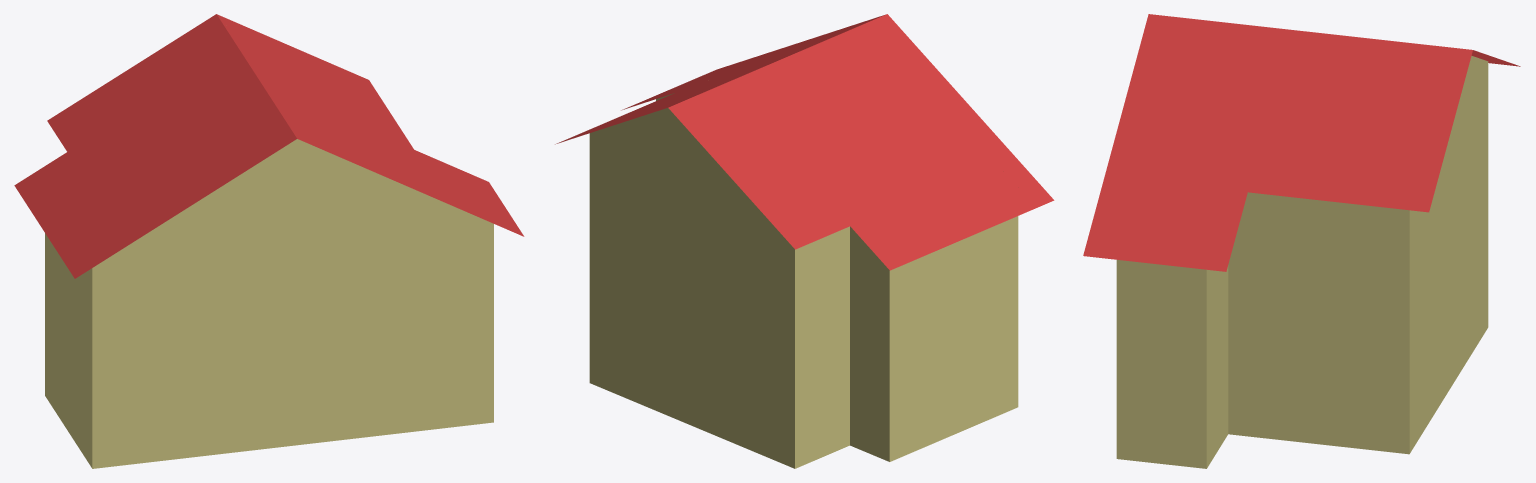
The picture shows the model from 3 angles, left to right: view 1: azimuth 30°, elevation 25°; view 2: azimuth 150°, elevation 25°; view 3: azimuth 270°, elevation 25°; orthographic projection. The views are drawn at different scales.
Visible parts, largest first — view 1: group_5, group_3, group_4; view 2: group_5, group_3, group_4; view 3: group_5, group_3, group_4.
Boxes of the visible parts, bbox=[...] form: group_5: bbox=[45, 139, 493, 468]; group_3: bbox=[45, 14, 523, 253]; group_4: bbox=[14, 14, 523, 278]; group_5: bbox=[589, 93, 1018, 468]; group_3: bbox=[555, 14, 1033, 268]; group_4: bbox=[647, 14, 1054, 270]; group_5: bbox=[1116, 56, 1488, 468]; group_3: bbox=[1084, 17, 1520, 271]; group_4: bbox=[1083, 14, 1480, 255].
Size of the model in its own units: 14.55 by 12 by 10.5.
